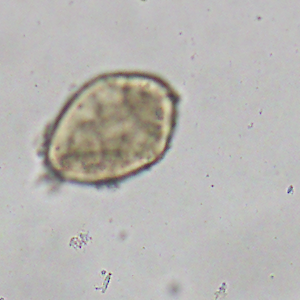Fasciola_hepatica_egg: (44, 69, 178, 186)
